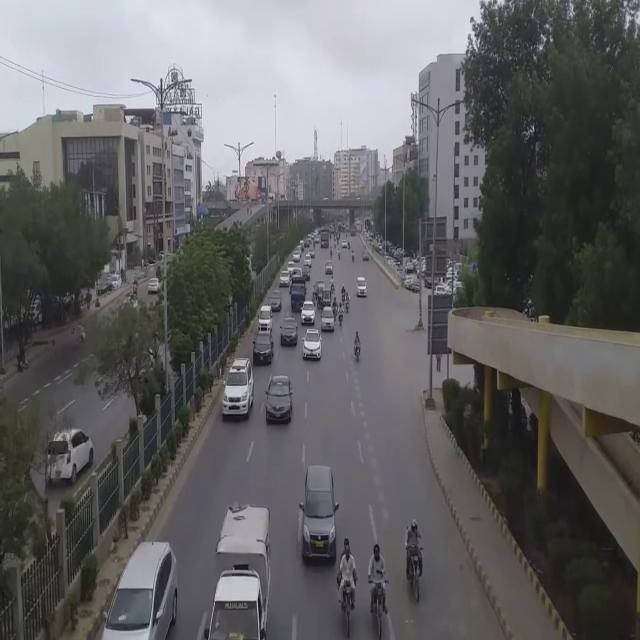car: (95, 527, 189, 640), (299, 465, 339, 566), (39, 429, 93, 492), (222, 356, 260, 423), (264, 372, 294, 424), (252, 326, 274, 366), (301, 327, 323, 362), (278, 315, 299, 346), (318, 310, 334, 331), (301, 303, 315, 324), (356, 275, 368, 296)
motorbike: (331, 534, 369, 640), (399, 517, 433, 611), (366, 537, 394, 640), (351, 326, 368, 365)
truck: (199, 500, 287, 640)
